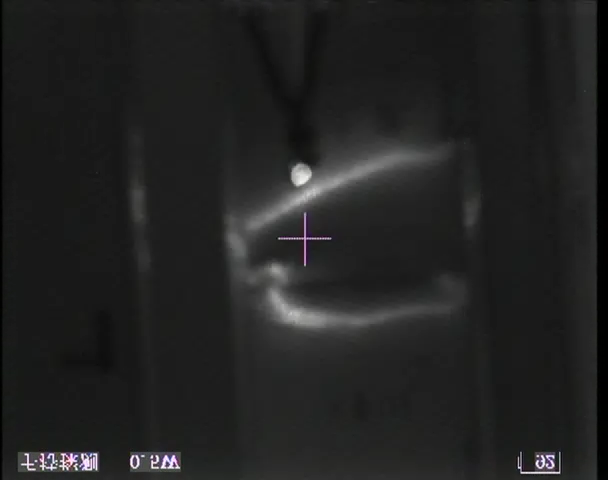my: (288, 161, 313, 187)
